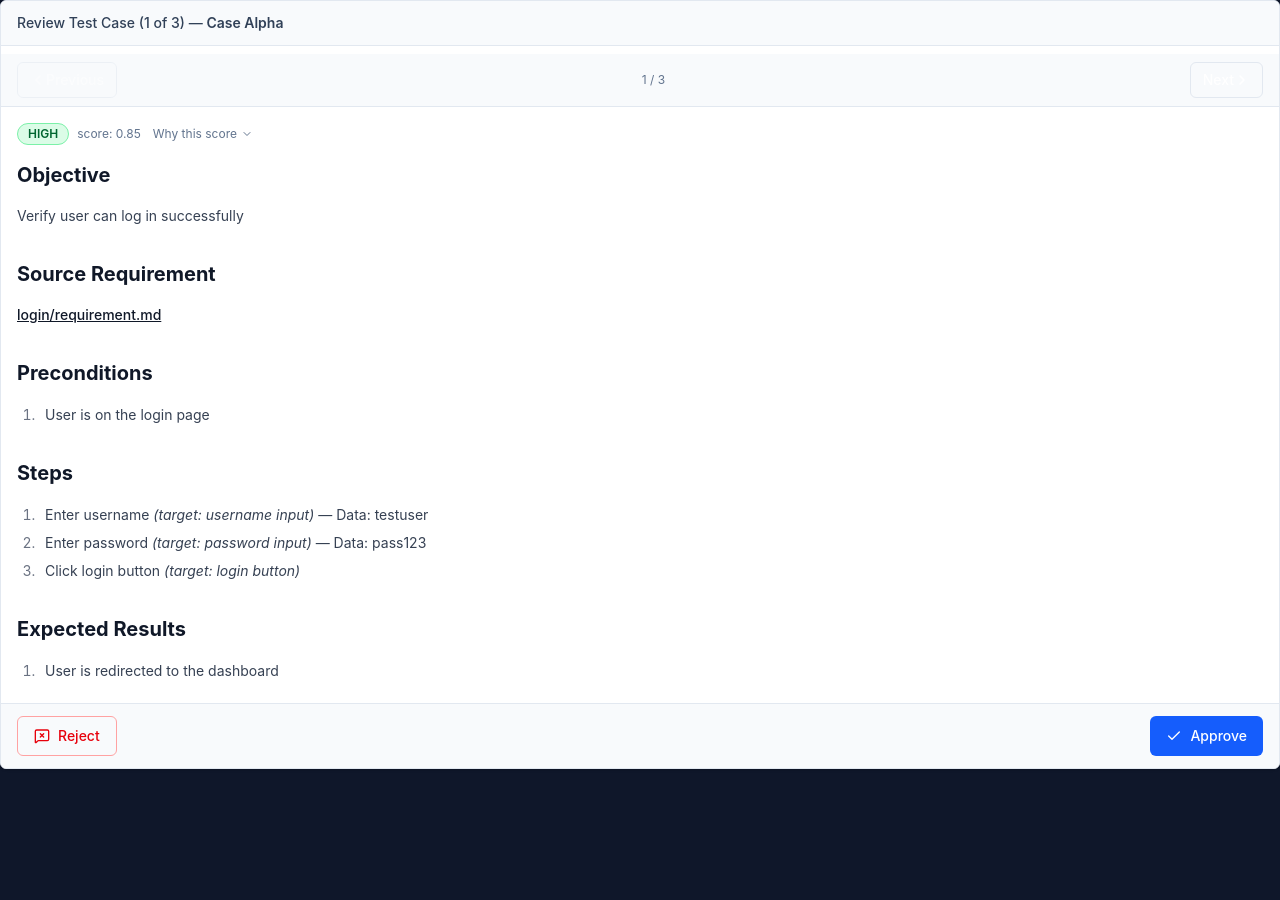
it: MaryReviewPanel › AC2 — Approve › auto-advances to the next unresolved case after approving (skips resolved)
Expected: the text "1 / 3" is shown, [642,72,665,88]
Expected: the text "Case Alpha" is shown, [206,14,284,31]
// Approving case 0 auto-advances the view to the next unresolved case (case 1).
Click the button "Approve" at (1207, 736), box [1150,716,1263,756]
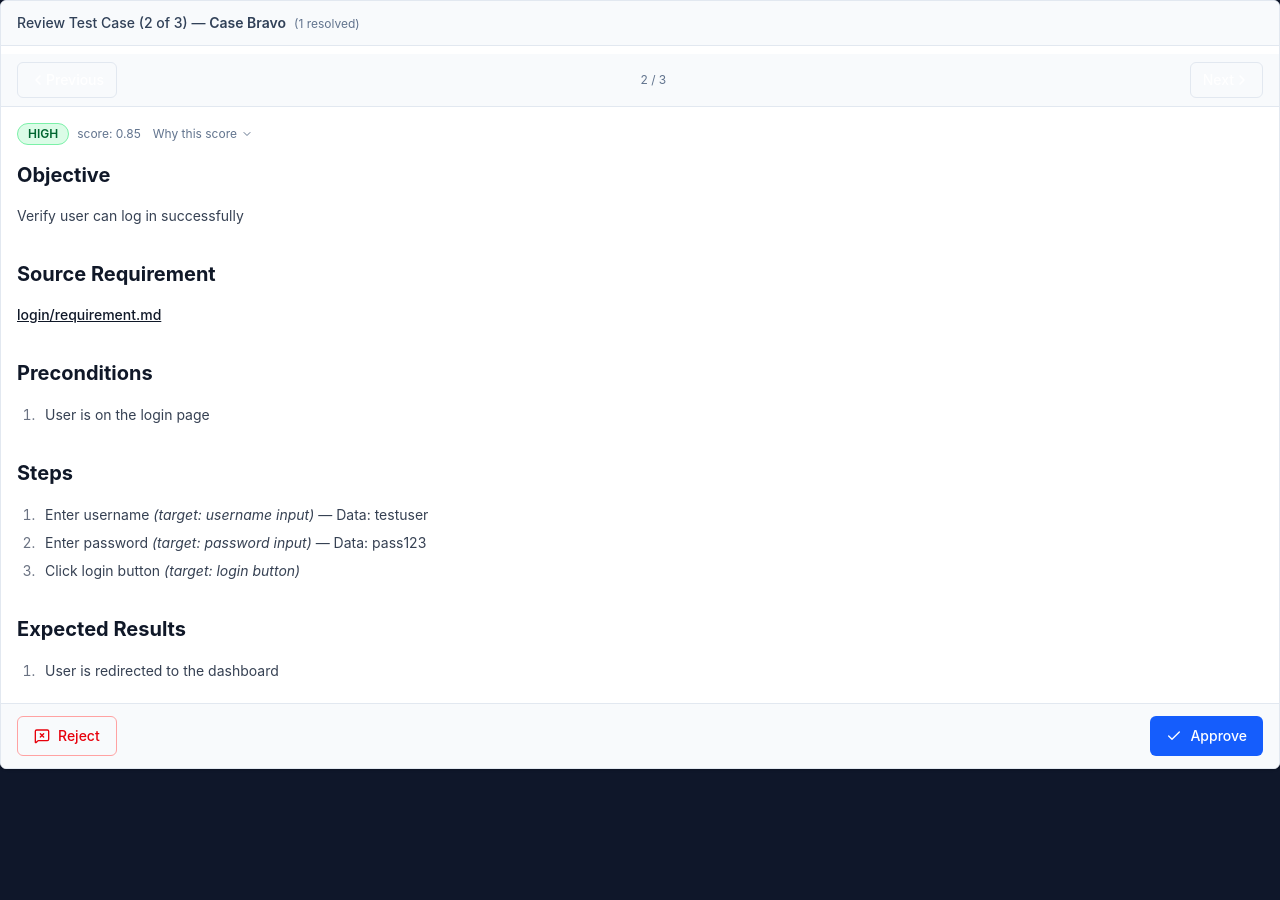
Expected: the text "2 / 3" is shown, [640,72,666,88]
Expected: the text "Case Bravo" is shown, [209,14,286,31]
Click the button with aria-label "Previous item" at (67, 80), box [17,62,117,98]
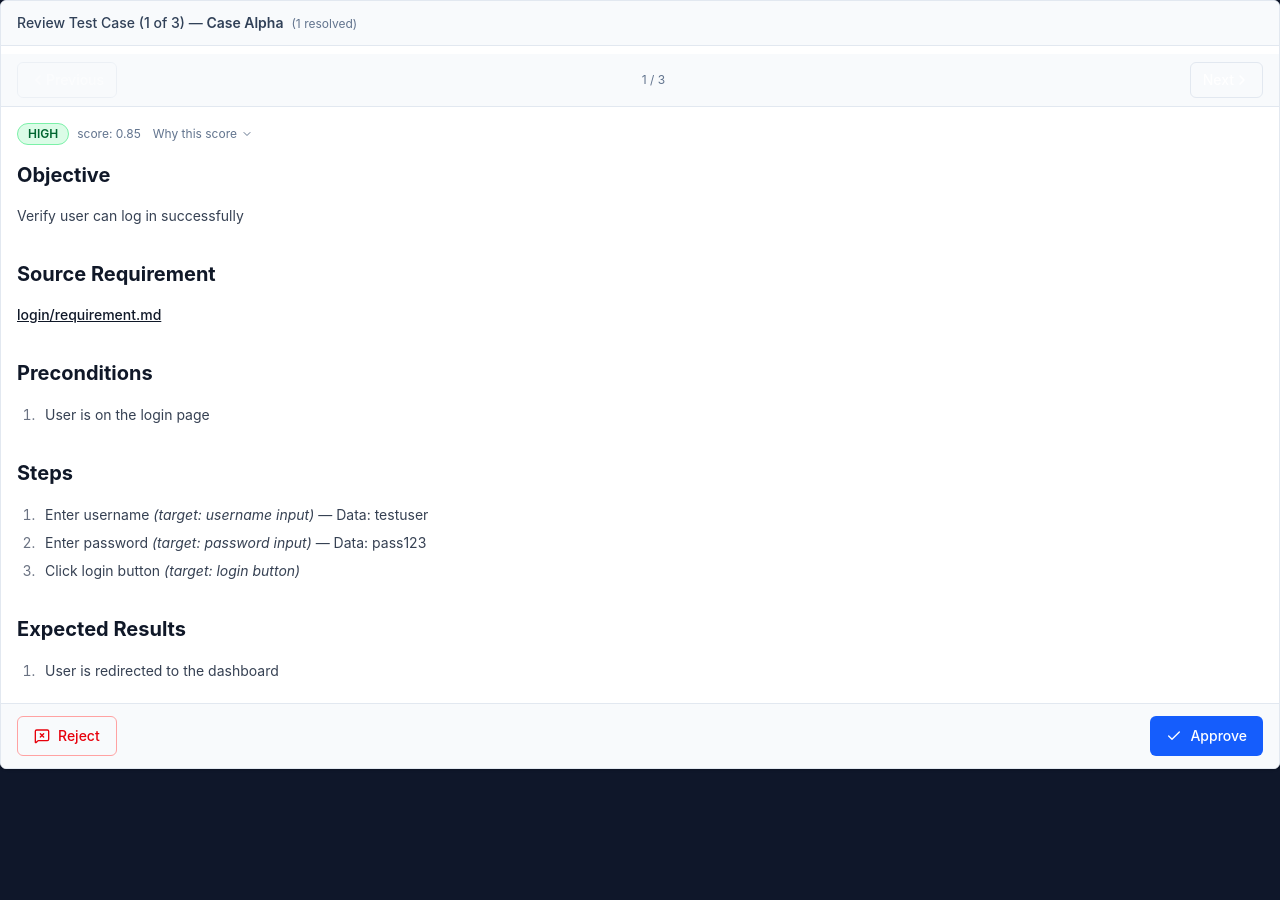
Expected: the text "1 / 3" is shown, [642,72,665,88]
Click the button with aria-label "Next item" at (1226, 80), box [1190,62,1263,98]
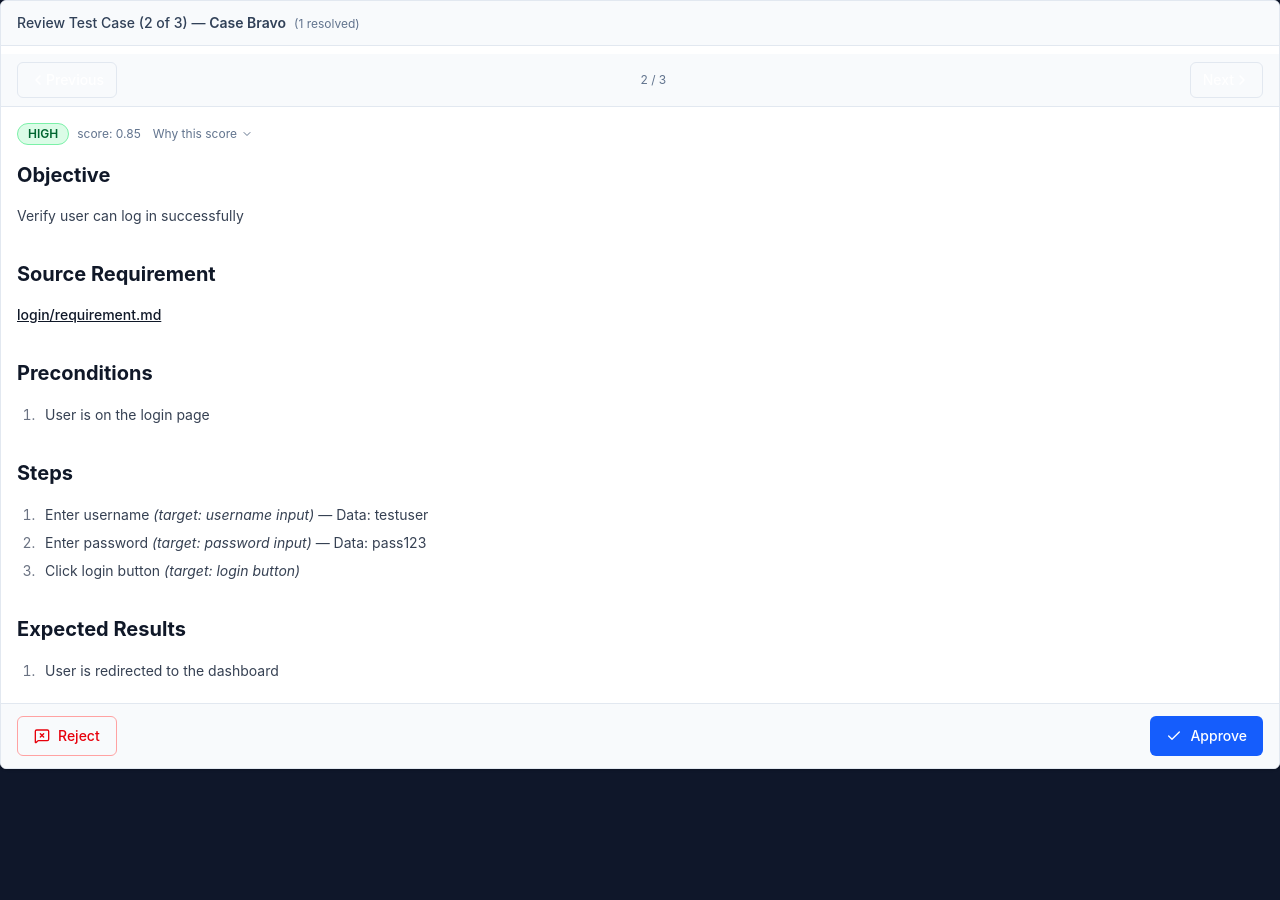
Click the button "Approve" at (1207, 736), box [1150,716,1263,756]
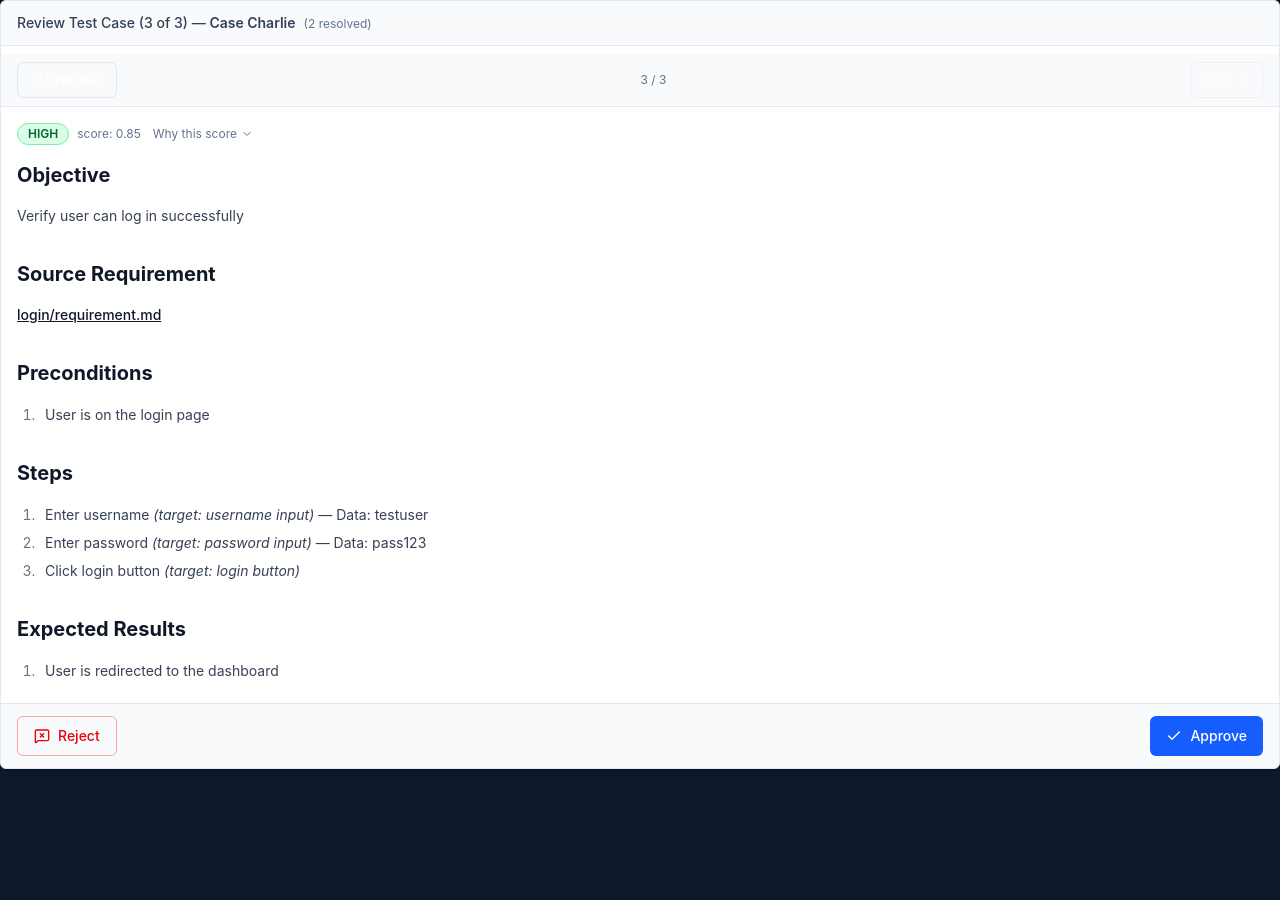
Expected: the text "3 / 3" is shown, [640,72,666,88]
Expected: the text "Case Charlie" is shown, [209,14,296,31]
